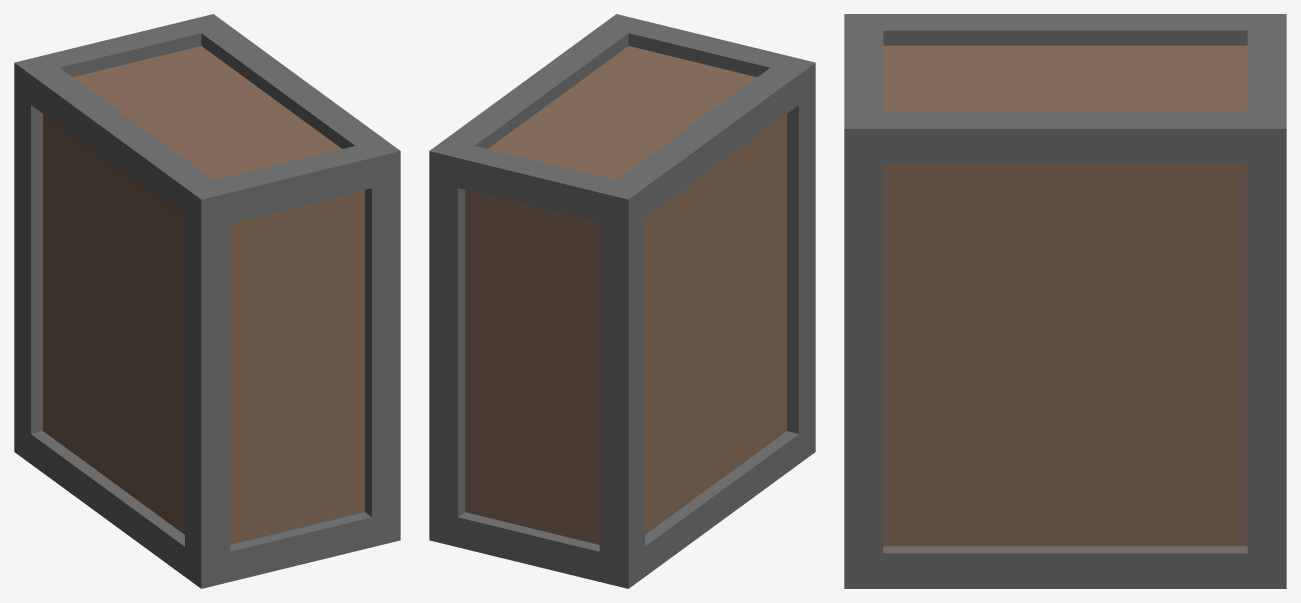
File: SM_crate_03.fbx
3 renders of one model, left to right at view 1: azimuth 30°, elevation 25°; view 2: azimuth 150°, elevation 25°; view 3: azimuth 270°, elevation 25°, orthographic. The views are drawn at different scales.
Parts seen in each view (by area): view 1: crate_03; view 2: crate_03; view 3: crate_03.
Boxes of the visible parts, left/top/right/bottom form: crate_03: left=14, top=14, right=400, bottom=588; crate_03: left=429, top=14, right=815, bottom=588; crate_03: left=844, top=14, right=1286, bottom=588.
Size of the model in its own units: 66.36 by 124 by 108.
